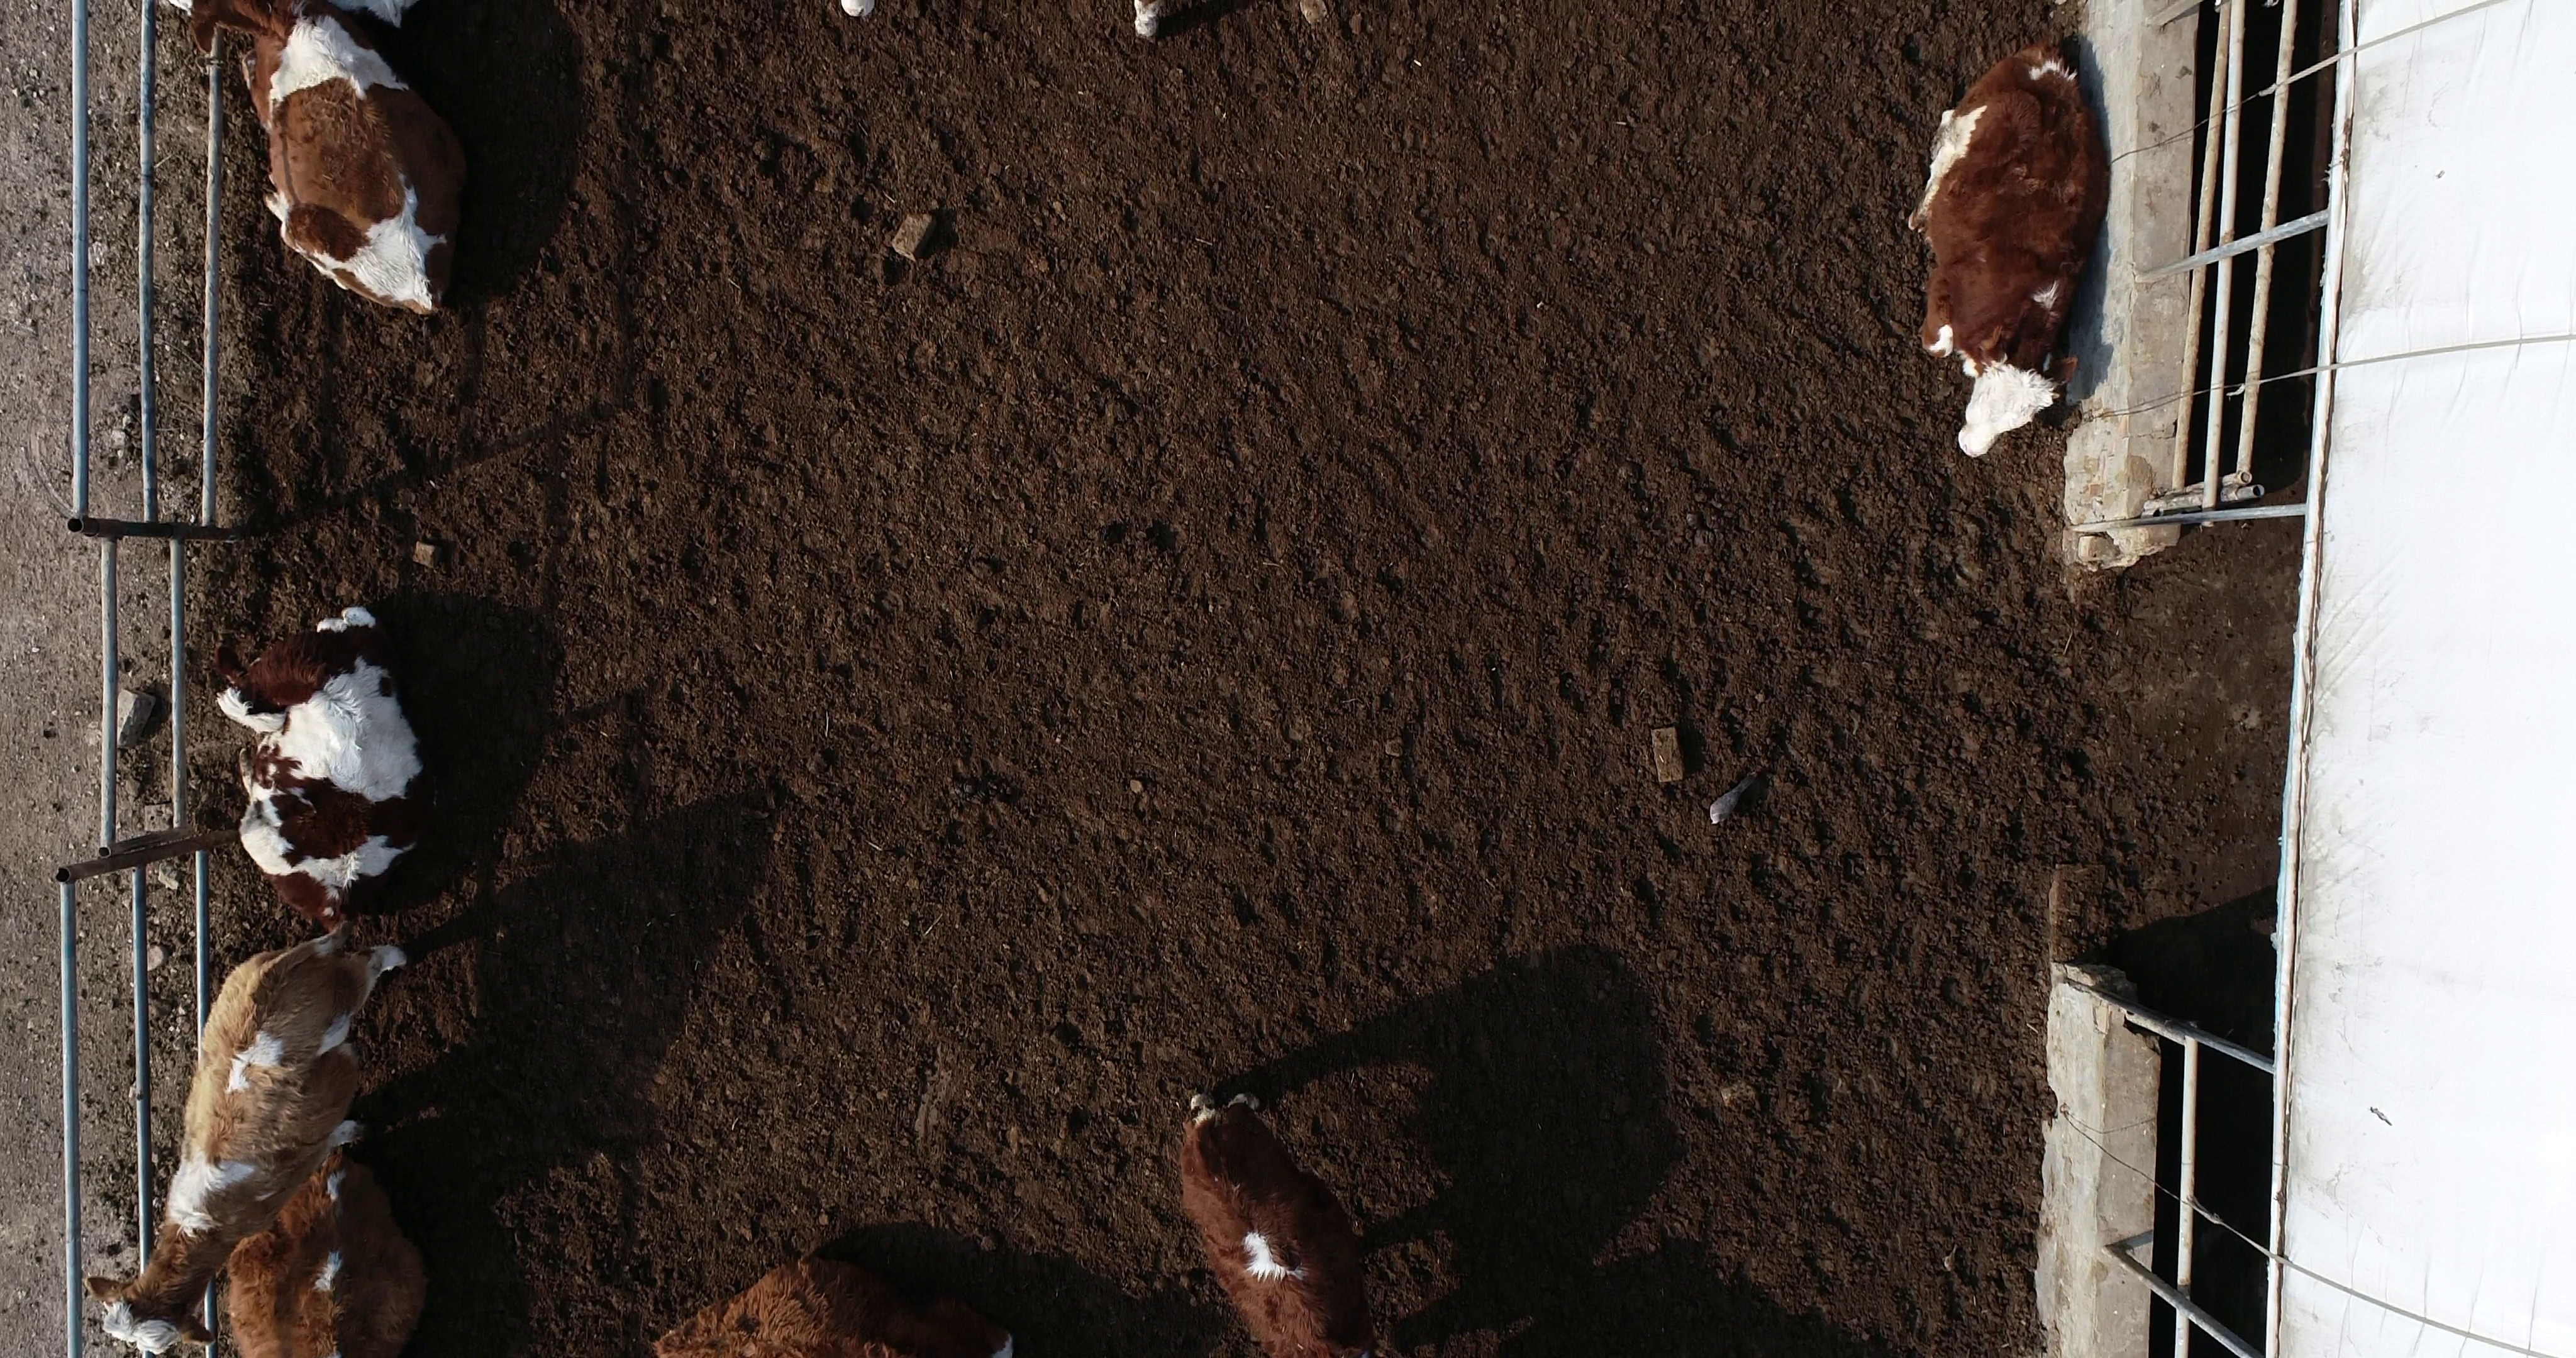cattle: (77, 924, 419, 1344), (1903, 32, 2104, 463)
